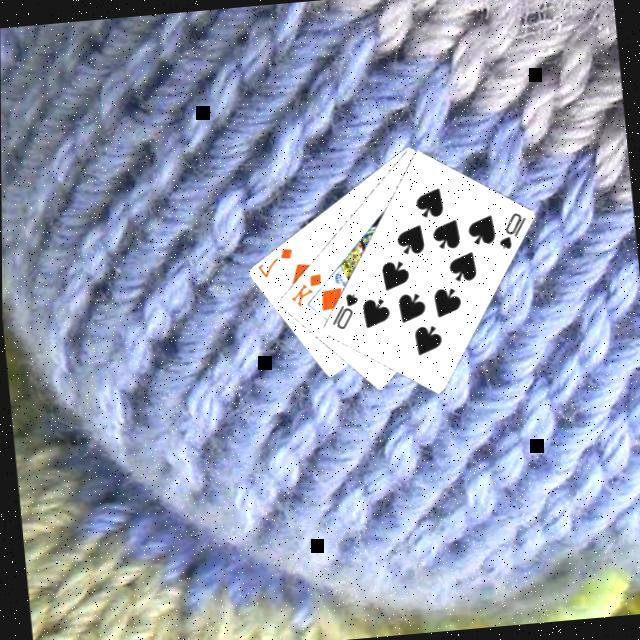10S: (490, 209, 528, 254), (324, 290, 361, 334)
7D: (250, 244, 295, 282)
KD: (282, 270, 324, 311)
